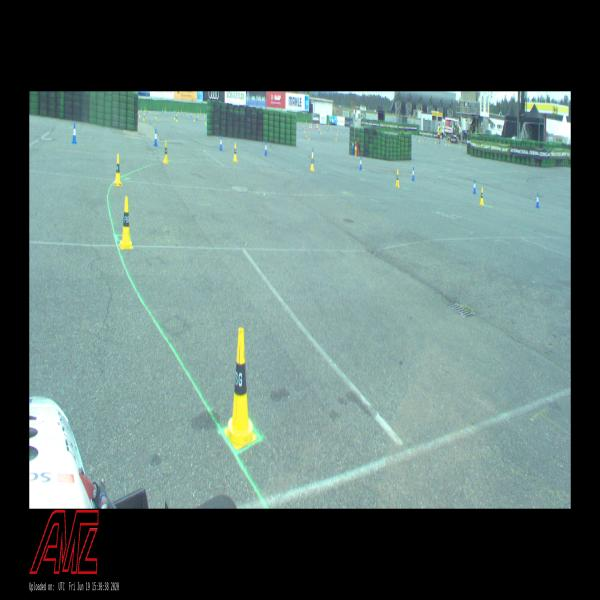blue_cone: (72, 123, 77, 144), (153, 129, 158, 146), (536, 192, 540, 208), (264, 141, 268, 156), (219, 136, 223, 150), (473, 179, 476, 194), (311, 148, 314, 162), (359, 157, 362, 169), (412, 167, 414, 181)
yellow_cone: (224, 328, 257, 449), (119, 196, 133, 249), (114, 154, 122, 186), (163, 141, 169, 164), (233, 143, 237, 162), (480, 187, 484, 206), (310, 154, 314, 171), (396, 170, 399, 187)
